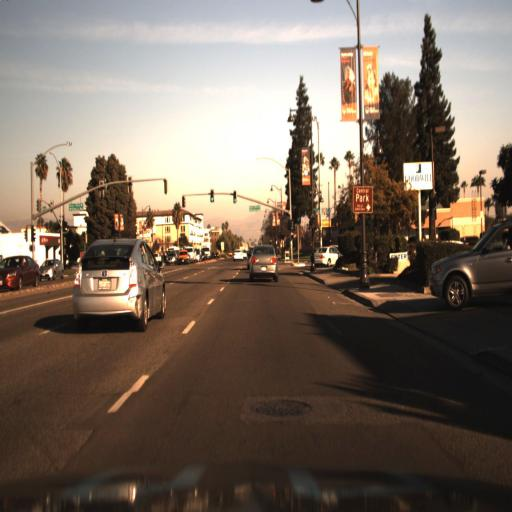car: (69, 229, 167, 329), (429, 216, 511, 310), (246, 239, 280, 283), (312, 242, 345, 270), (39, 259, 66, 284), (231, 245, 246, 265)
trafficLight: (181, 192, 188, 211)
trafficLight-Green: (297, 205, 307, 228), (207, 187, 216, 206), (233, 182, 240, 205)
